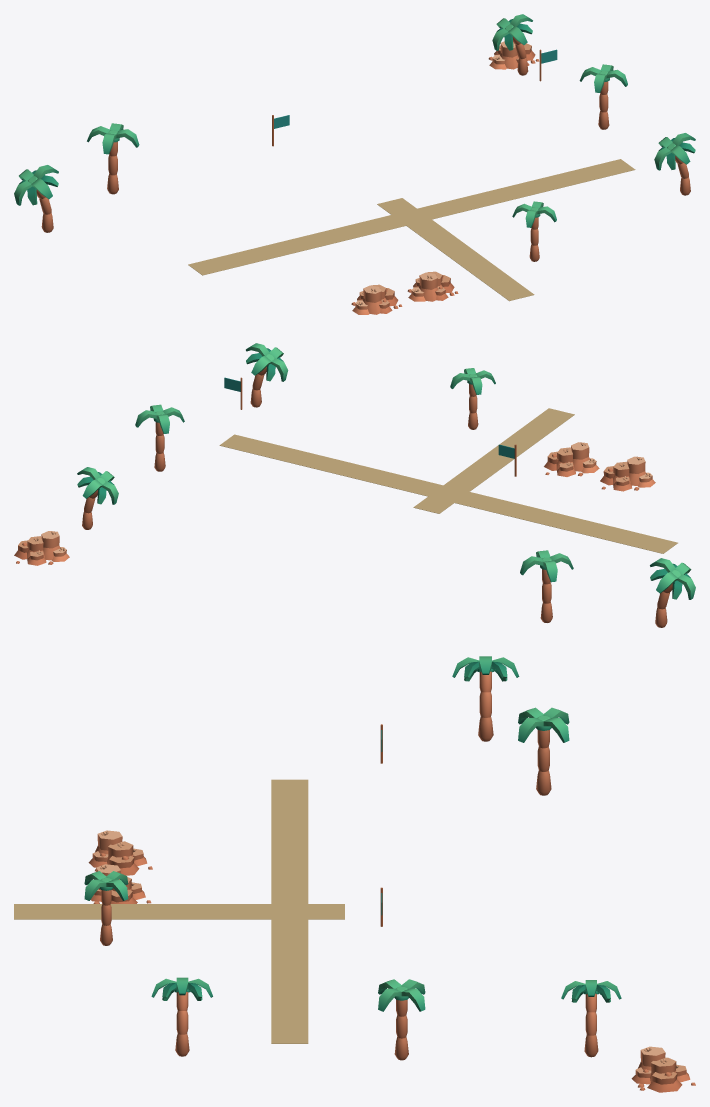
Rendered from gold_scenery.glb.
3 renders of one model, top to bottom at view 1: azimuth 30°, elevation 25°; view 2: azimuth 150°, elevation 25°; view 3: azimuth 270°, elevation 25°, orthographic. The views are drawn at different scales.
Visible parts, largest first — view 1: Packed-sand lane.008, Packed-sand lane.009, Packed-sand lane.010, palm-detailed-bend.008, palm-detailed-bend.009, palm-detailed-bend.007, palm-straight.008, rocks-sand-a.007, rocks-sand-a.008, palm-straight.007, palm-straight.009, rocks-sand-a.009; view 2: Packed-sand lane.008, Packed-sand lane.009, Packed-sand lane.010, palm-detailed-bend.008, palm-detailed-bend.009, rocks-sand-a.008, palm-detailed-bend.007, rocks-sand-a.009, rocks-sand-a.007, palm-straight.008, palm-straight.007, palm-straight.009; view 3: Packed-sand lane.008, Packed-sand lane.010, Packed-sand lane.009, palm-straight.008, palm-detailed-bend.008, rocks-sand-a.009, palm-straight.007, palm-detailed-bend.009, rocks-sand-a.008, palm-detailed-bend.007, palm-straight.009, rocks-sand-a.007.
Part boxes in pixels (x1,y1,x2,y2): Packed-sand lane.008: [377, 198, 534, 301]; Packed-sand lane.009: [188, 215, 405, 275]; Packed-sand lane.010: [417, 159, 635, 219]; palm-detailed-bend.008: [14, 165, 58, 232]; palm-detailed-bend.009: [654, 133, 695, 195]; palm-detailed-bend.007: [492, 14, 532, 75]; palm-straight.008: [87, 123, 139, 194]; rocks-sand-a.007: [407, 271, 458, 301]; rocks-sand-a.008: [351, 284, 402, 314]; palm-straight.007: [579, 64, 627, 129]; palm-straight.009: [512, 201, 556, 261]; rocks-sand-a.009: [488, 41, 539, 69]; Packed-sand lane.008: [413, 408, 574, 513]; Packed-sand lane.009: [454, 492, 677, 553]; Packed-sand lane.010: [219, 434, 442, 496]; palm-detailed-bend.008: [650, 558, 695, 627]; palm-detailed-bend.009: [246, 343, 288, 407]; rocks-sand-a.008: [600, 456, 655, 491]; palm-detailed-bend.007: [77, 467, 118, 529]; rocks-sand-a.009: [14, 531, 69, 565]; rocks-sand-a.007: [544, 442, 599, 476]; palm-straight.008: [520, 550, 573, 622]; palm-straight.007: [135, 404, 184, 471]; palm-straight.009: [450, 368, 495, 429]; Packed-sand lane.008: [14, 904, 344, 919]; Packed-sand lane.010: [271, 919, 308, 1043]; Packed-sand lane.009: [271, 779, 308, 903]; palm-straight.008: [518, 707, 569, 795]; palm-detailed-bend.008: [452, 656, 519, 741]; rocks-sand-a.009: [631, 1046, 695, 1092]; palm-straight.007: [378, 979, 425, 1060]; palm-detailed-bend.009: [151, 977, 212, 1056]; rocks-sand-a.008: [88, 830, 152, 875]; palm-detailed-bend.007: [561, 980, 621, 1057]; palm-straight.009: [84, 871, 128, 945]; rocks-sand-a.007: [90, 864, 151, 903].
Bounding box in the file's own units: 46.22 × 8.39 × 37.09.
6 materials, 3 textured.
